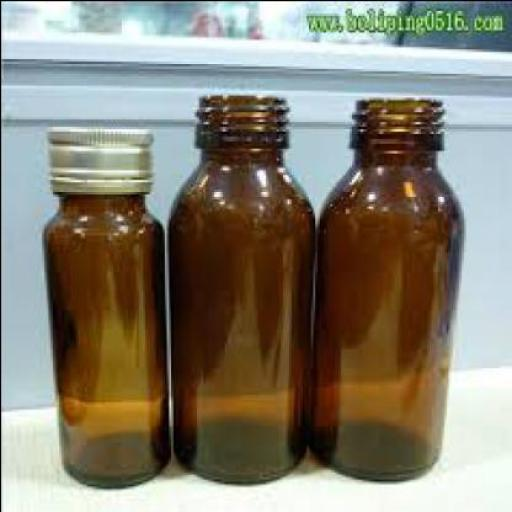glass: (305, 94, 463, 478), (163, 92, 315, 480), (41, 190, 168, 486)
metal: (43, 123, 149, 191)
